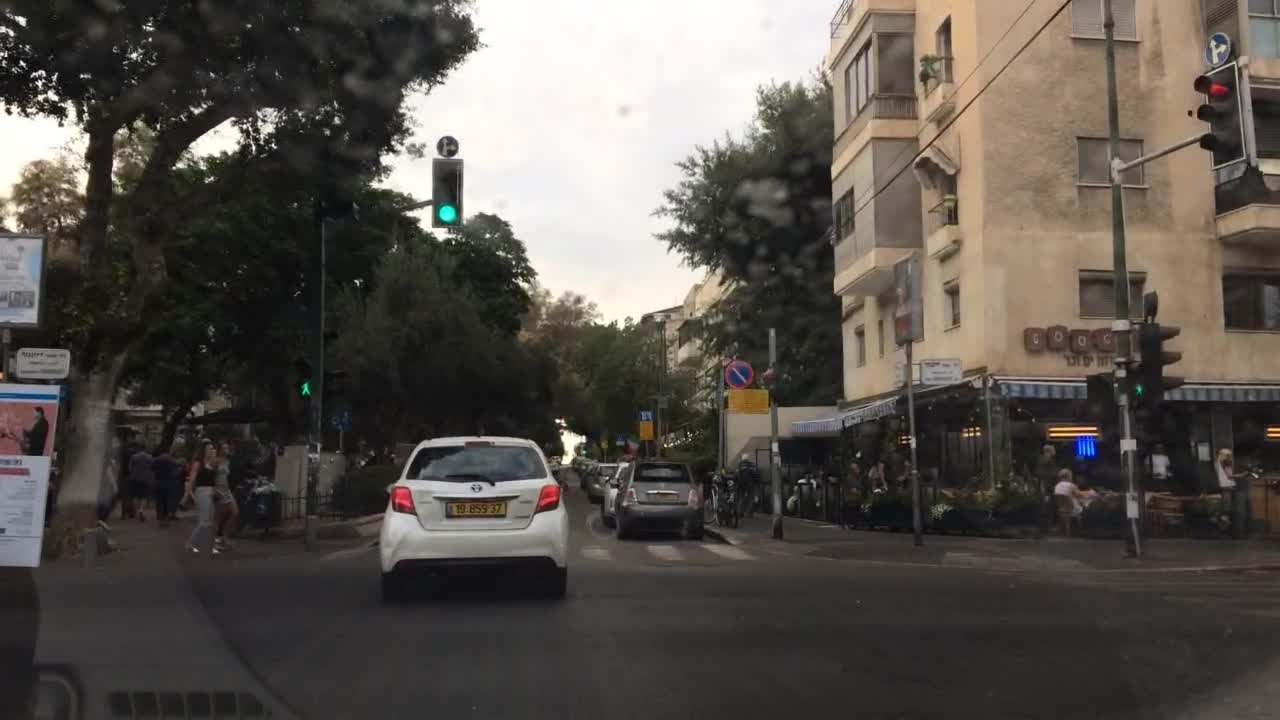bike: (710, 467, 740, 528), (834, 491, 864, 526)
car: (376, 422, 569, 600), (609, 460, 703, 542), (598, 464, 628, 526), (584, 460, 619, 502), (574, 458, 600, 488), (390, 443, 417, 465), (551, 462, 567, 488), (569, 453, 584, 471), (550, 451, 562, 465)
person: (182, 439, 224, 553), (1214, 443, 1251, 528), (100, 437, 130, 526), (1053, 471, 1093, 535), (95, 432, 121, 528), (128, 443, 153, 526), (212, 437, 231, 542), (1139, 439, 1172, 493), (735, 458, 761, 523), (882, 439, 908, 490), (700, 467, 719, 521), (1037, 443, 1055, 495), (168, 457, 181, 523), (172, 446, 186, 500), (800, 469, 817, 512), (866, 457, 883, 498), (350, 439, 368, 471), (780, 474, 793, 514), (847, 453, 861, 490), (815, 465, 826, 505), (252, 436, 266, 467), (826, 467, 838, 500), (1020, 460, 1030, 495), (382, 444, 392, 465), (268, 436, 273, 472)
traffic light: (1191, 70, 1245, 168), (1142, 320, 1184, 413), (432, 158, 464, 229), (1084, 373, 1114, 419), (1121, 363, 1147, 412), (291, 357, 314, 399), (324, 366, 348, 401), (322, 322, 338, 340), (577, 443, 588, 458)
traffic sign: (918, 359, 964, 387), (728, 387, 770, 413), (1205, 33, 1228, 70), (724, 362, 754, 387), (436, 135, 460, 156), (894, 360, 904, 390), (637, 422, 651, 443), (637, 409, 653, 422), (614, 436, 625, 451)
